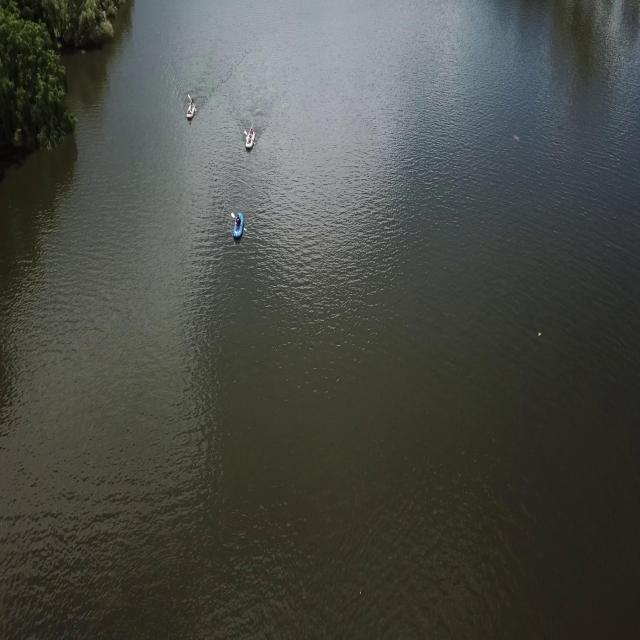kayak: (232, 209, 246, 241), (185, 92, 198, 122), (244, 124, 257, 153)
